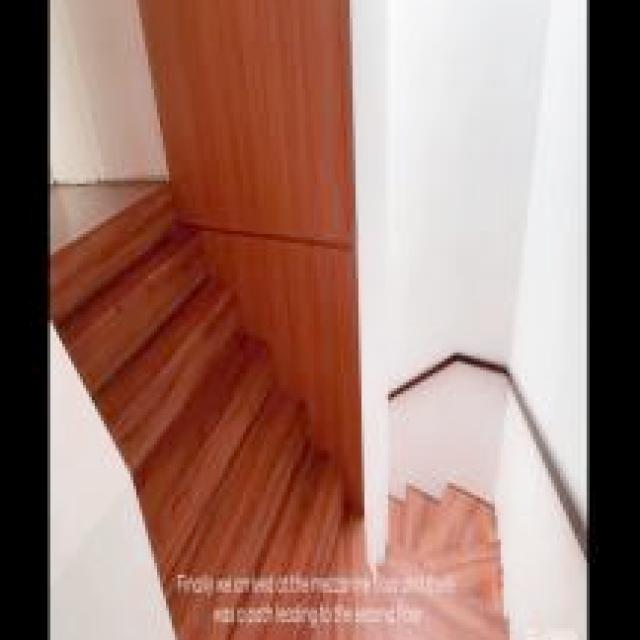upstair: (46, 205, 289, 496)
